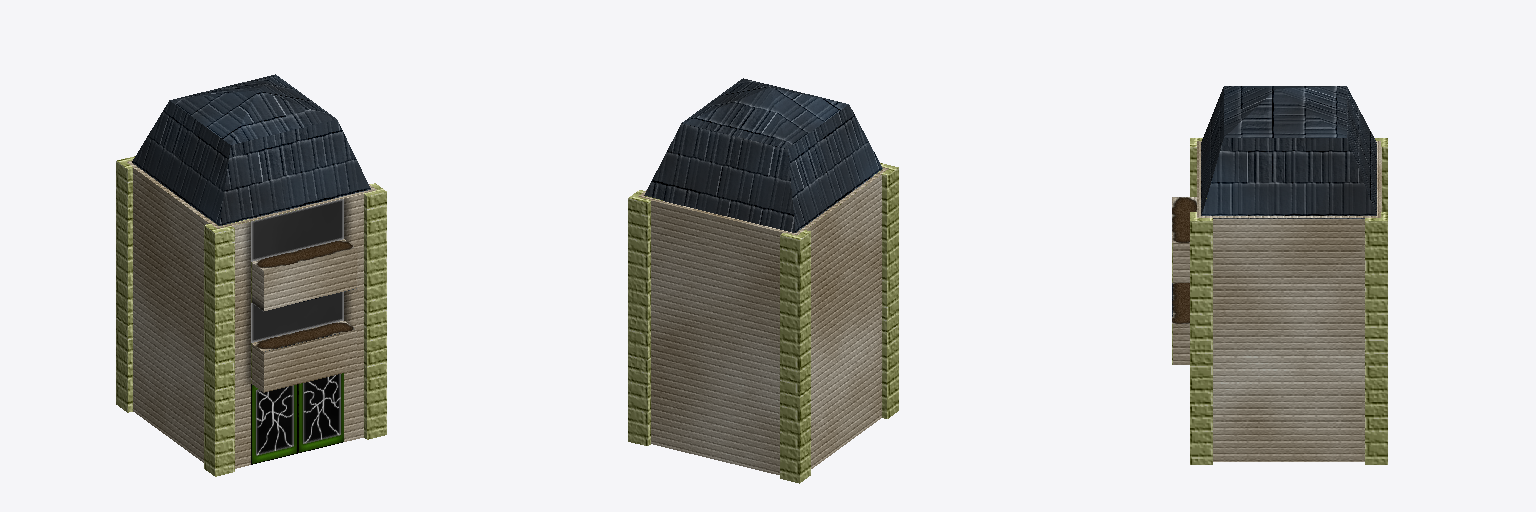
3 renders of one model, left to right at view 1: azimuth 30°, elevation 25°; view 2: azimuth 150°, elevation 25°; view 3: azimuth 270°, elevation 25°, orthographic.
Visible parts, largest first — view 1: Cube1; view 2: Cube1; view 3: Cube1.
Boxes of the visible parts, <box> form: Cube1: <box>116,74,386,476</box>; Cube1: <box>628,78,898,483</box>; Cube1: <box>1172,86,1387,464</box>.
Bounding box in the file's own units: 4.03 × 7.51 × 4.4.
1 materials, 1 textured.